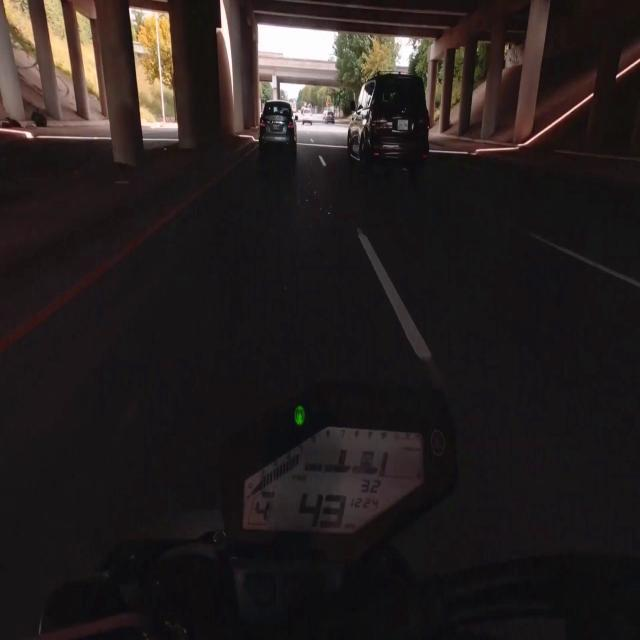car: (348, 73, 429, 174), (259, 101, 297, 155), (302, 108, 312, 125), (324, 111, 334, 123)
